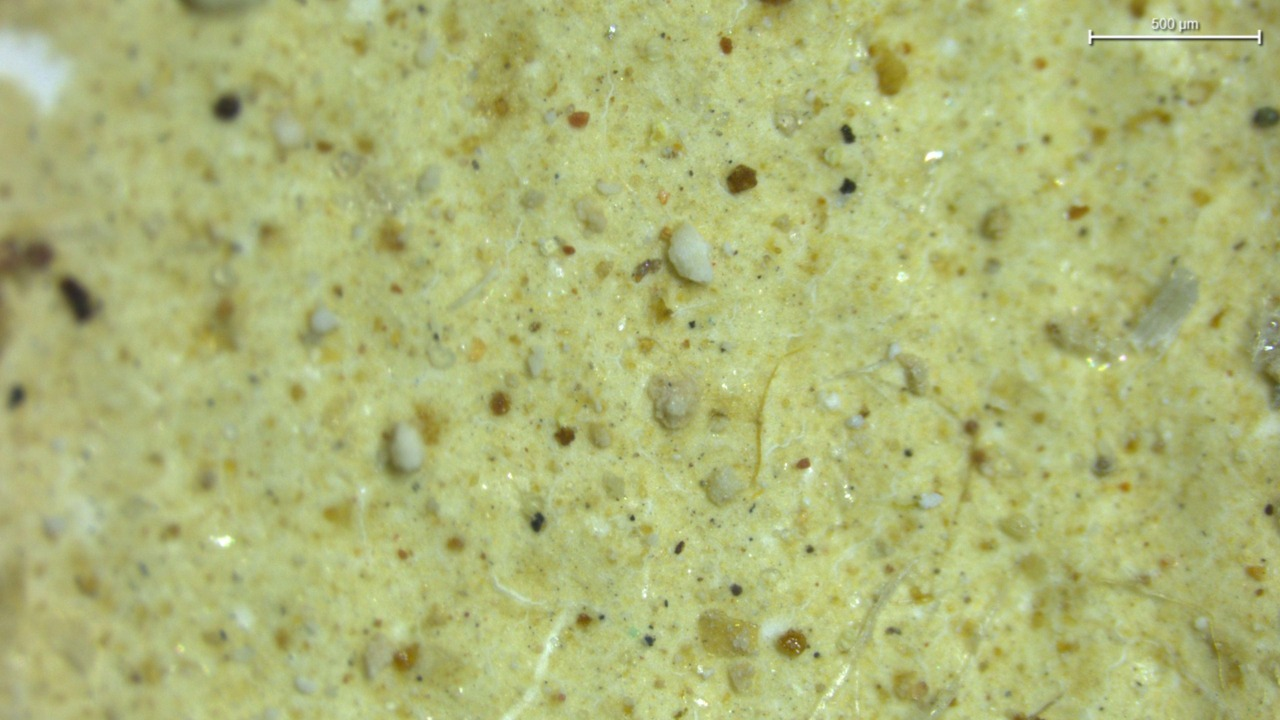microplastic_fragment: (666, 224, 714, 286), (389, 424, 427, 474)
